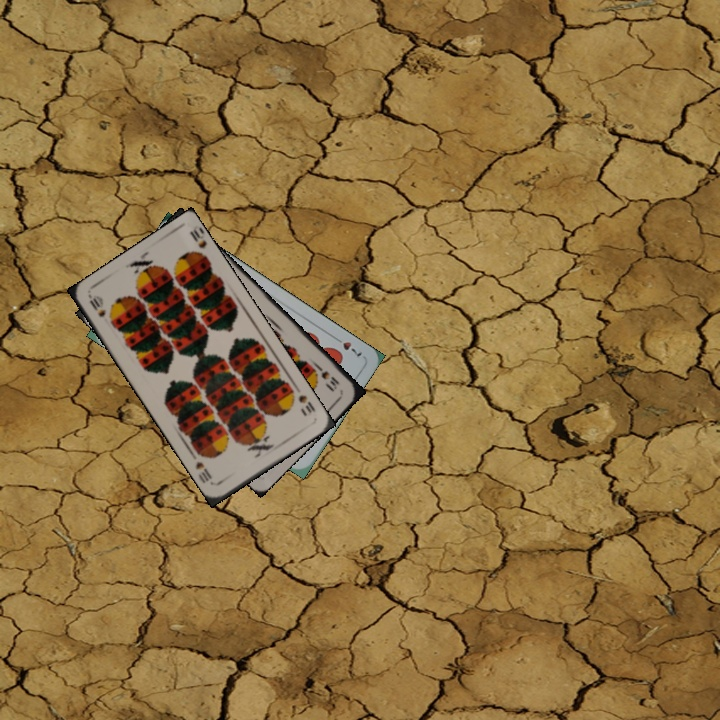H7: (329, 332, 365, 359)
S10: (311, 360, 341, 393), (286, 386, 318, 416), (85, 292, 108, 320)
